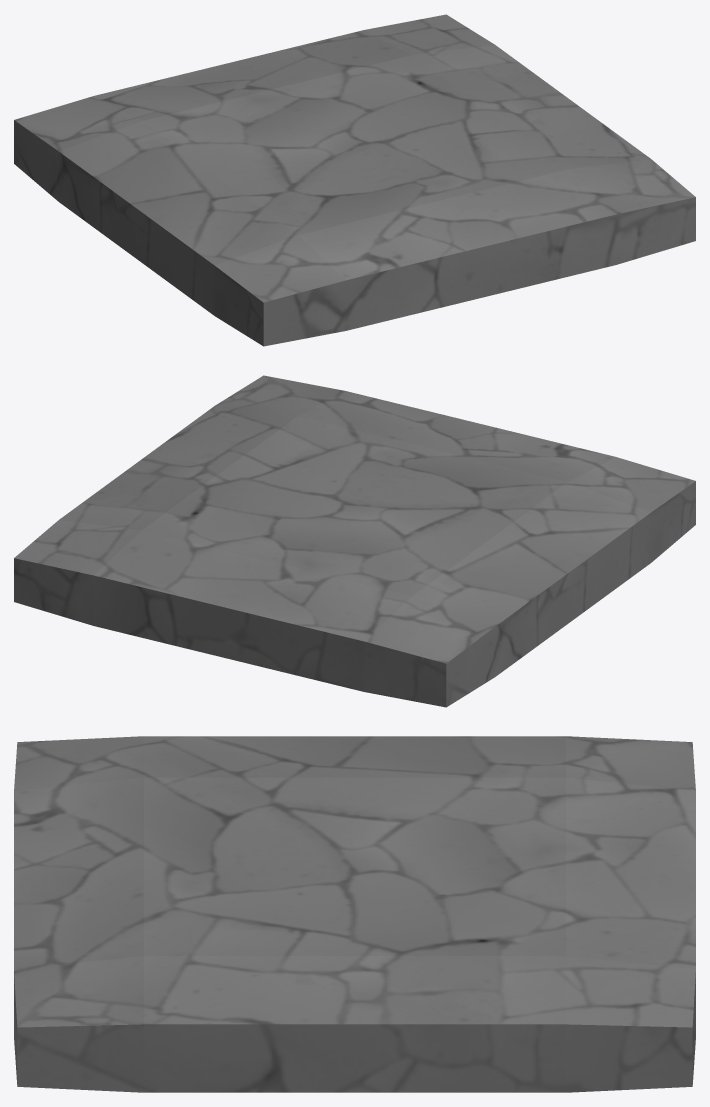
The model's file is dsPlatformStone.glb.
3 views of the same model, one above another, from view 1: azimuth 30°, elevation 25°; view 2: azimuth 150°, elevation 25°; view 3: azimuth 270°, elevation 25° (orthographic). The views are drawn at different scales.
Visible parts, largest first — view 1: Cube; view 2: Cube; view 3: Cube.
Boxes of the visible parts, <box> form: Cube: <box>14,14,695,346</box>; Cube: <box>14,375,695,707</box>; Cube: <box>14,736,695,1092</box>.
Size of what is drawn, in the model's own units: 1.94 by 0.3 by 1.94.
1 material, 1 textured.
